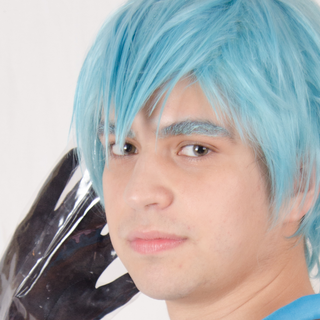eye: (171, 138, 222, 164), (103, 136, 143, 162)
